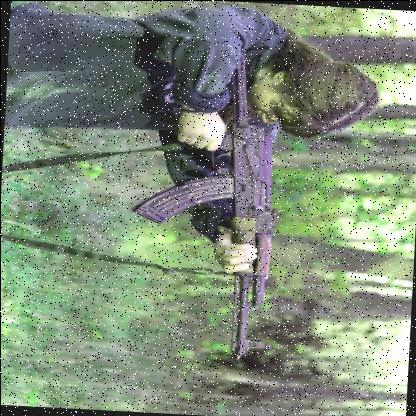rifle: (132, 43, 290, 359)
